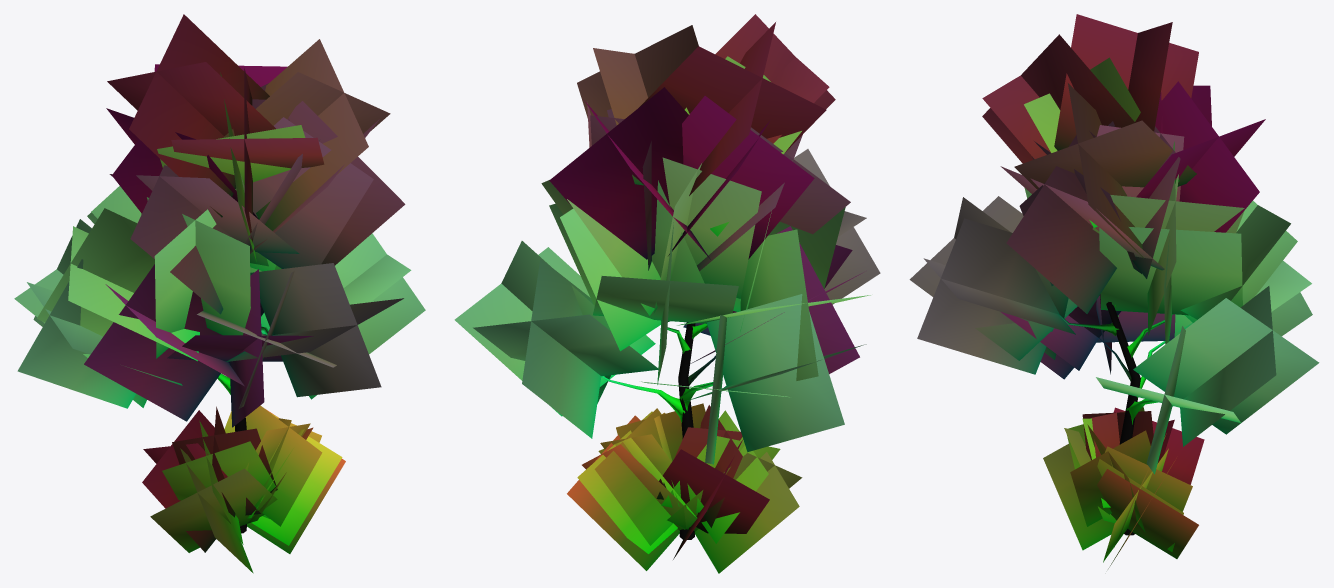
The model's file is URP_P12_Tree_3_LOD_3.fbx.
The picture shows the model from 3 angles, left to right: view 1: azimuth 30°, elevation 25°; view 2: azimuth 150°, elevation 25°; view 3: azimuth 270°, elevation 25°; orthographic projection. The views are drawn at different scales.
Visible parts, largest first — view 1: Tree_3_LOD_3; view 2: Tree_3_LOD_3; view 3: Tree_3_LOD_3.
Part boxes in pixels (x1,y1,x2,y2): Tree_3_LOD_3: (14,14,425,573); Tree_3_LOD_3: (454,14,880,573); Tree_3_LOD_3: (909,14,1319,568).
Size of the model in its own units: 204 by 270 by 194.
